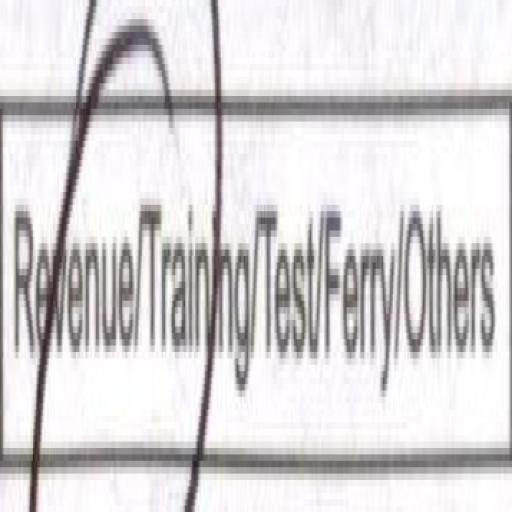check: (135, 22, 256, 512), (5, 73, 134, 512)
